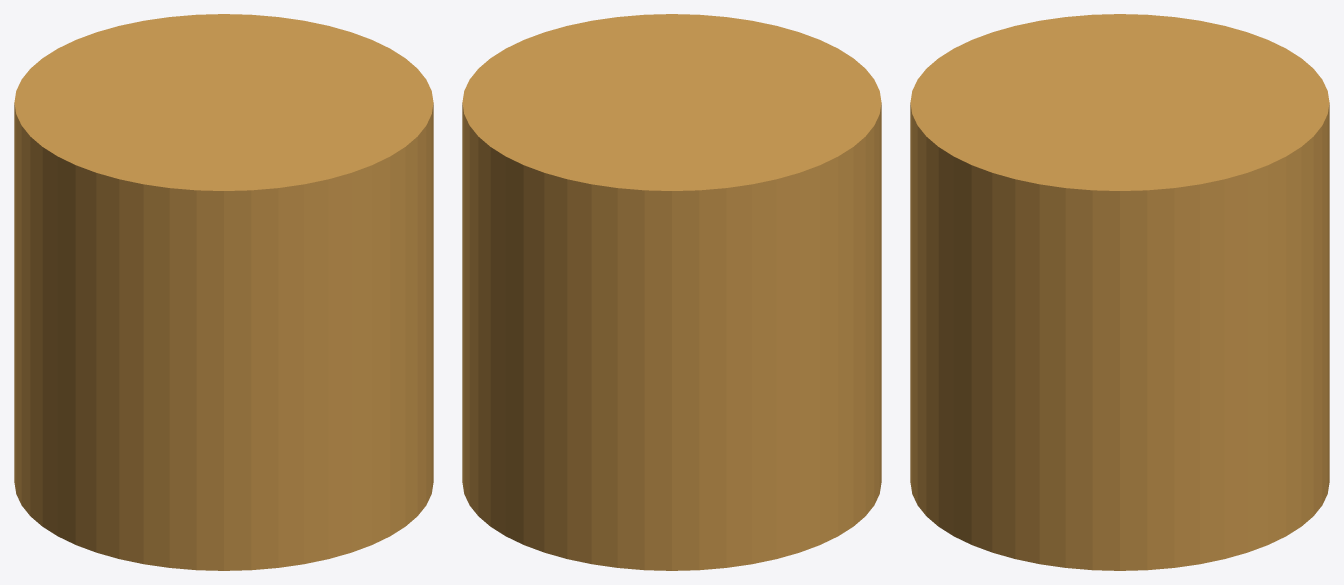
The model's file is Fantabulous Maimu-Esboo.glb.
3 views of the same model, side by side, from view 1: azimuth 30°, elevation 25°; view 2: azimuth 150°, elevation 25°; view 3: azimuth 270°, elevation 25° (orthographic).
Visible parts, largest first — view 1: Mesh_Mesh_head_geo.001_lambert2SG.001; view 2: Mesh_Mesh_head_geo.001_lambert2SG.001; view 3: Mesh_Mesh_head_geo.001_lambert2SG.001.
Boxes of the visible parts, x1,y1,x2,y2 form: Mesh_Mesh_head_geo.001_lambert2SG.001: (14, 14, 433, 570); Mesh_Mesh_head_geo.001_lambert2SG.001: (462, 14, 881, 570); Mesh_Mesh_head_geo.001_lambert2SG.001: (910, 14, 1329, 570).
Size of the model in its own units: 0.02 by 0.02 by 0.02.
